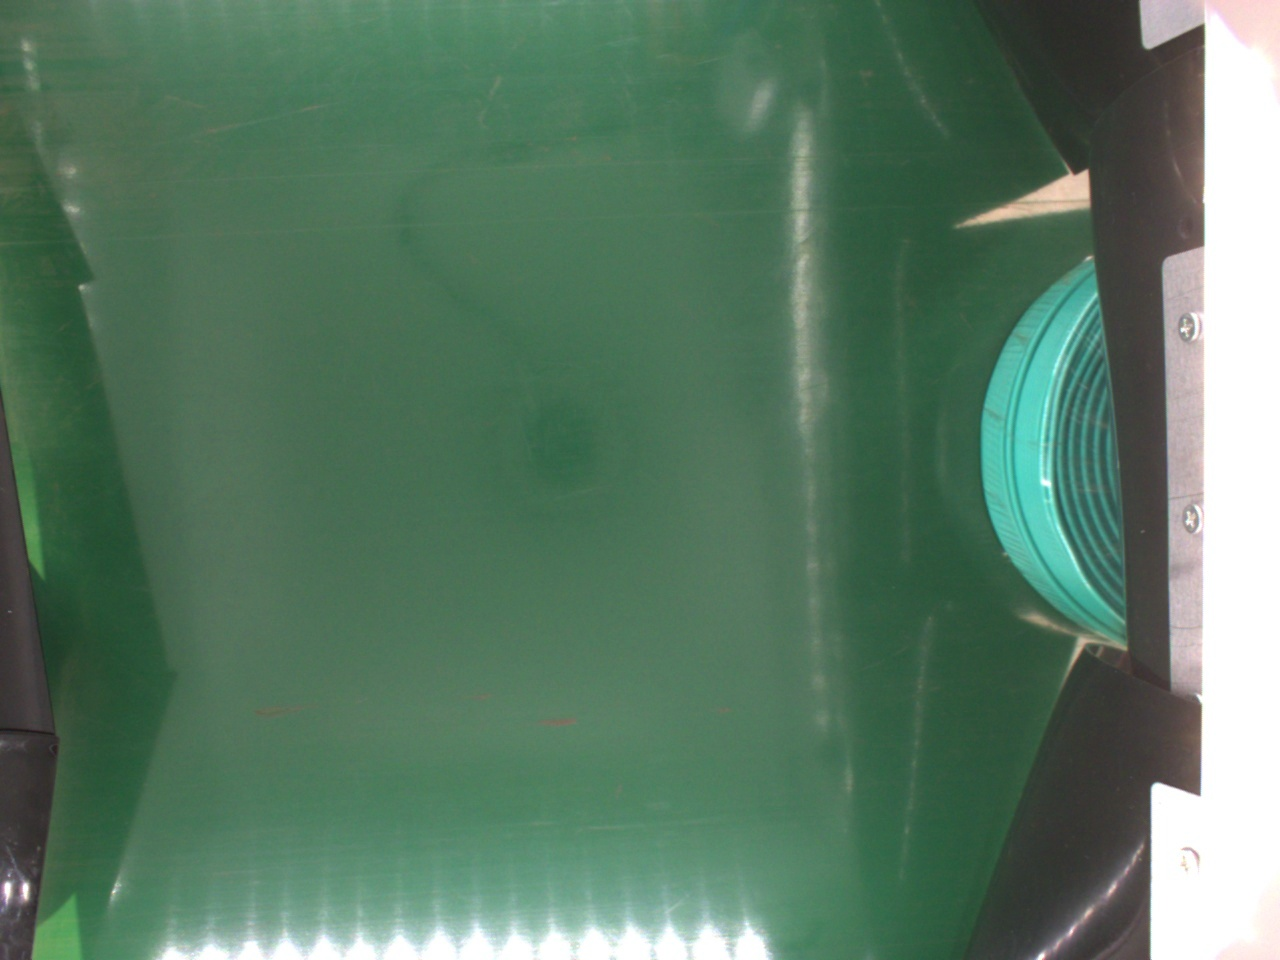green: (975, 255, 1139, 646)
